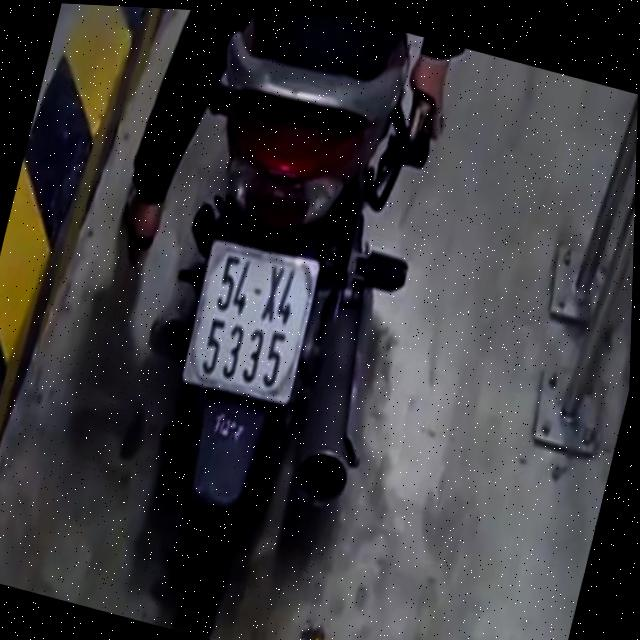motorcycle: (82, 5, 469, 640)
plate: (172, 229, 330, 414)
